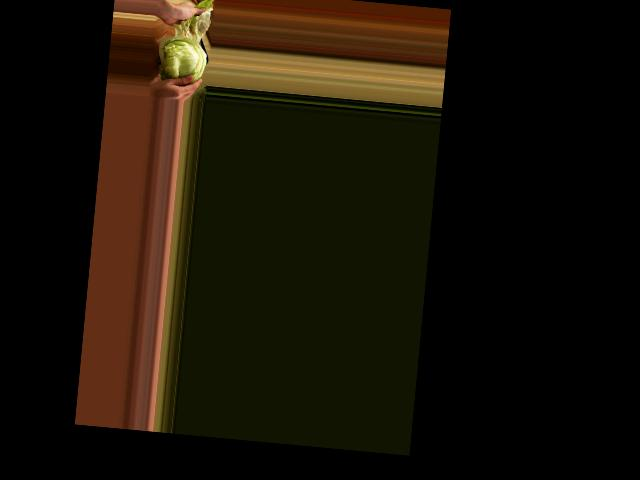lettuce: (152, 23, 211, 88)
